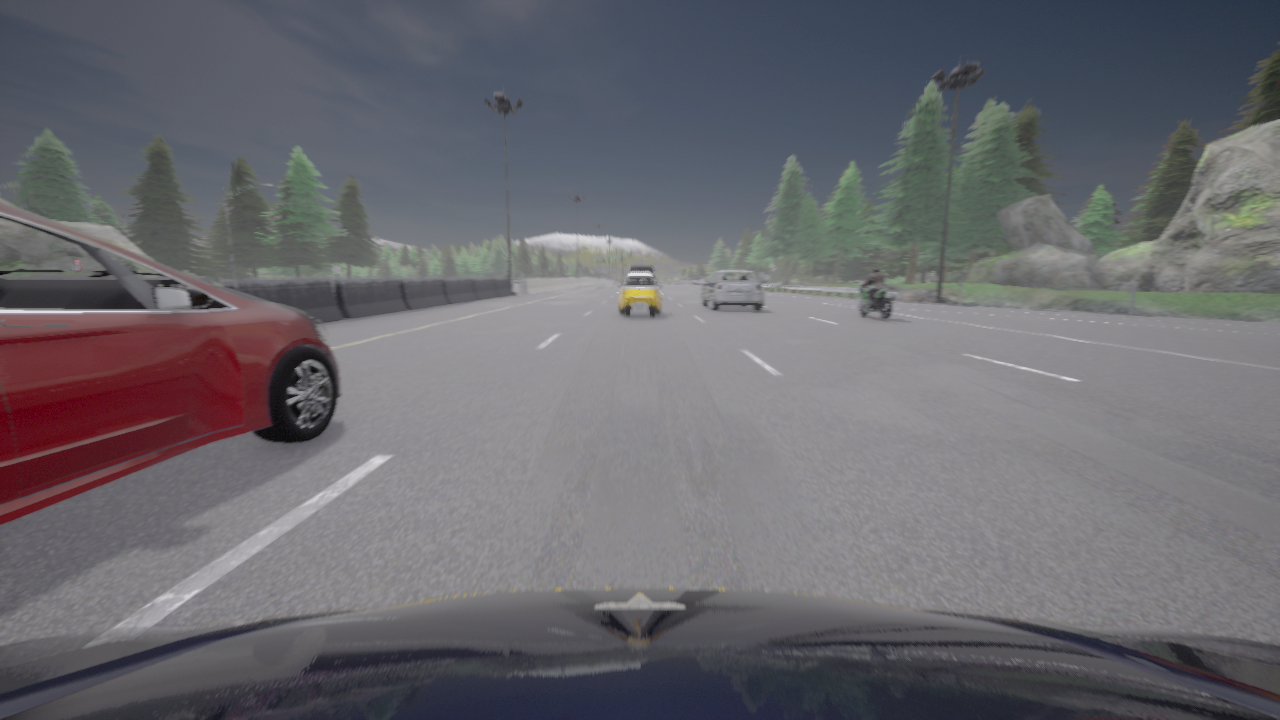cyclist: (0, 588, 1279, 719), (701, 270, 763, 310), (618, 272, 661, 317), (855, 280, 897, 319), (629, 265, 657, 285)
